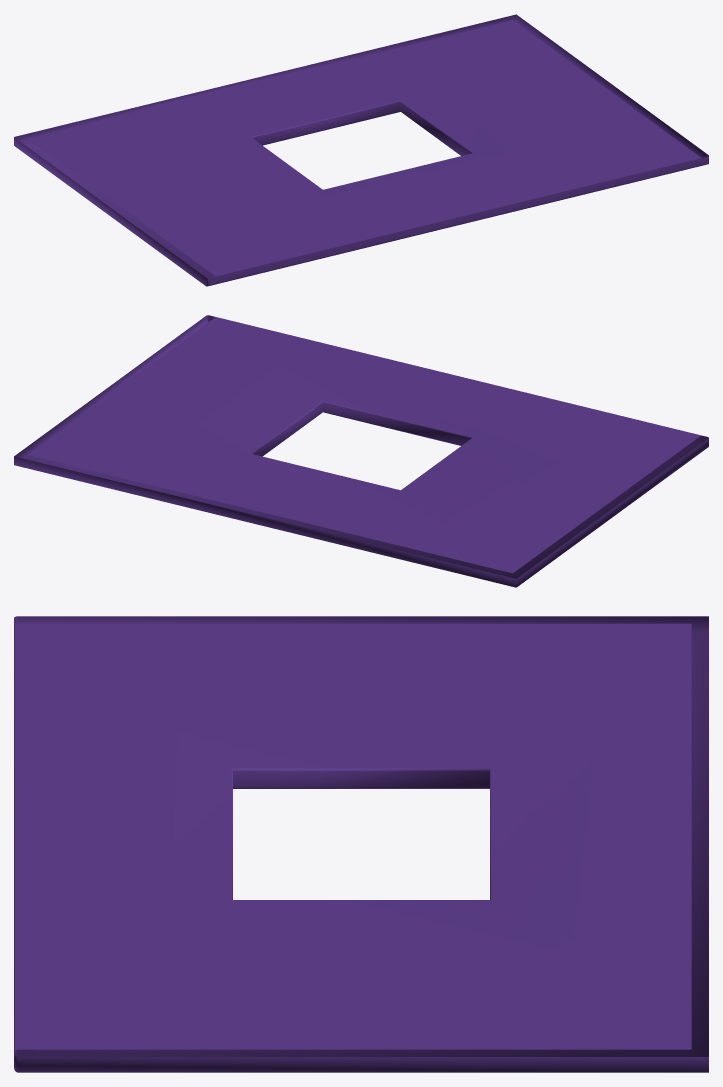
The model's file is floor.fbx.
3 renders of one model, top to bottom at view 1: azimuth 30°, elevation 25°; view 2: azimuth 150°, elevation 25°; view 3: azimuth 270°, elevation 25°, orthographic. The views are drawn at different scales.
Parts seen in each view (by area): view 1: floor; view 2: floor; view 3: floor.
Part boxes in pixels (x1=…): floor: x1=14, y1=14, x2=708, y2=286; floor: x1=14, y1=315, x2=708, y2=587; floor: x1=14, y1=616, x2=708, y2=1072.
Bounding box in the file's own units: 6 × 0.132 × 4.
1 material, 1 textured.
